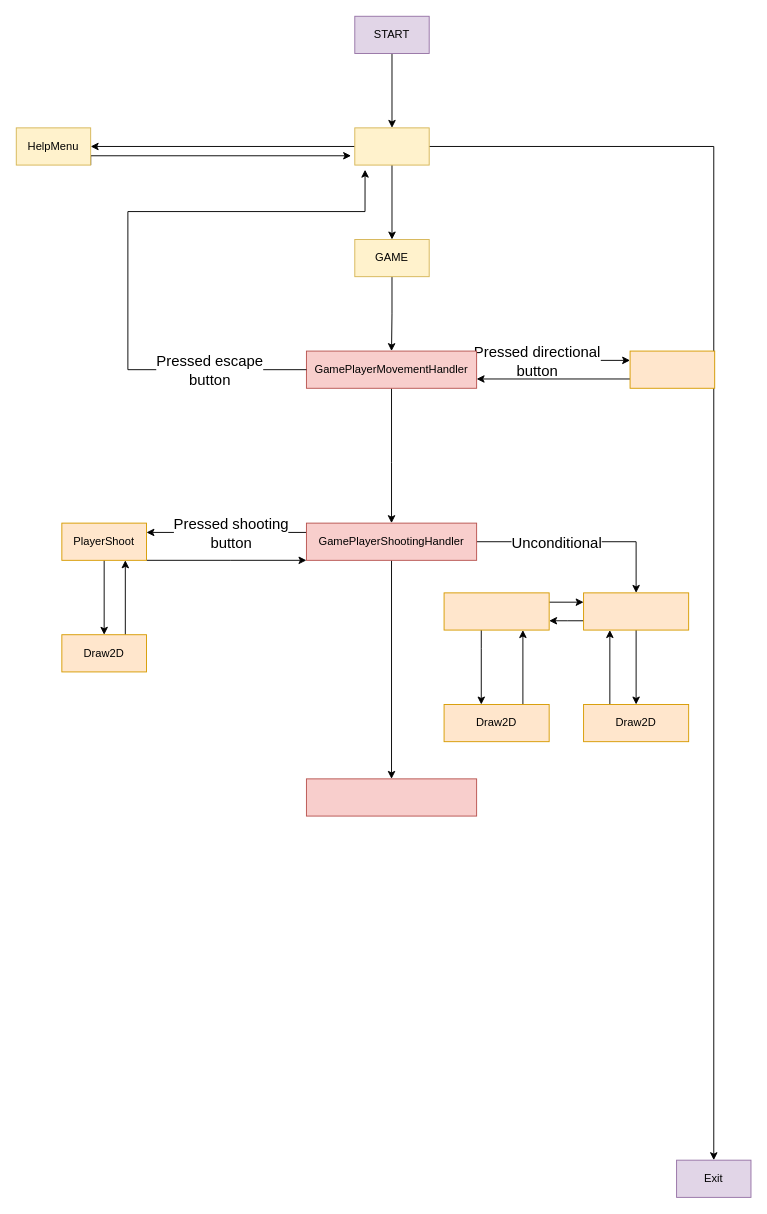
Some shapes in this 767 by 1214 pixel diagram are drawn without their labels. The centre of each missing label's shape, as x and y in pixels:
"DrawPlayer" belongs at (x=672, y=369).
"EnemiesCollision" belongs at (x=496, y=611).
"GameEnemies" belongs at (x=391, y=797).
"MovePlayerShot" belongs at (x=636, y=611).
"StartMenu" belongs at (x=391, y=146).
